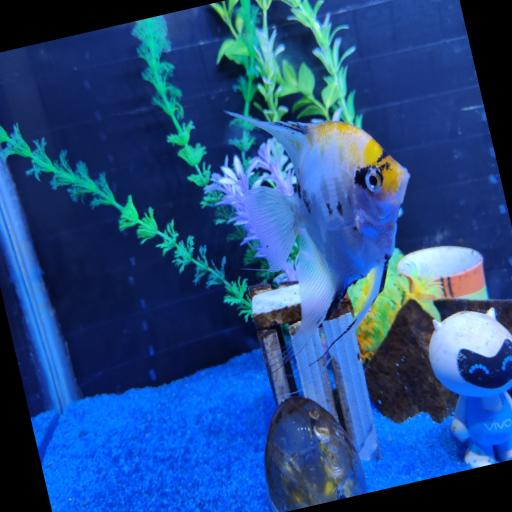Fish: (229, 112, 409, 354)
